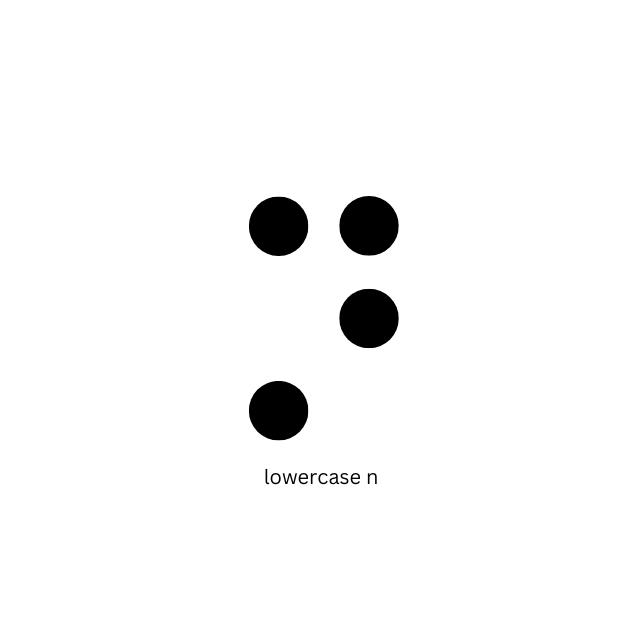letter_n: (247, 193, 400, 441)
